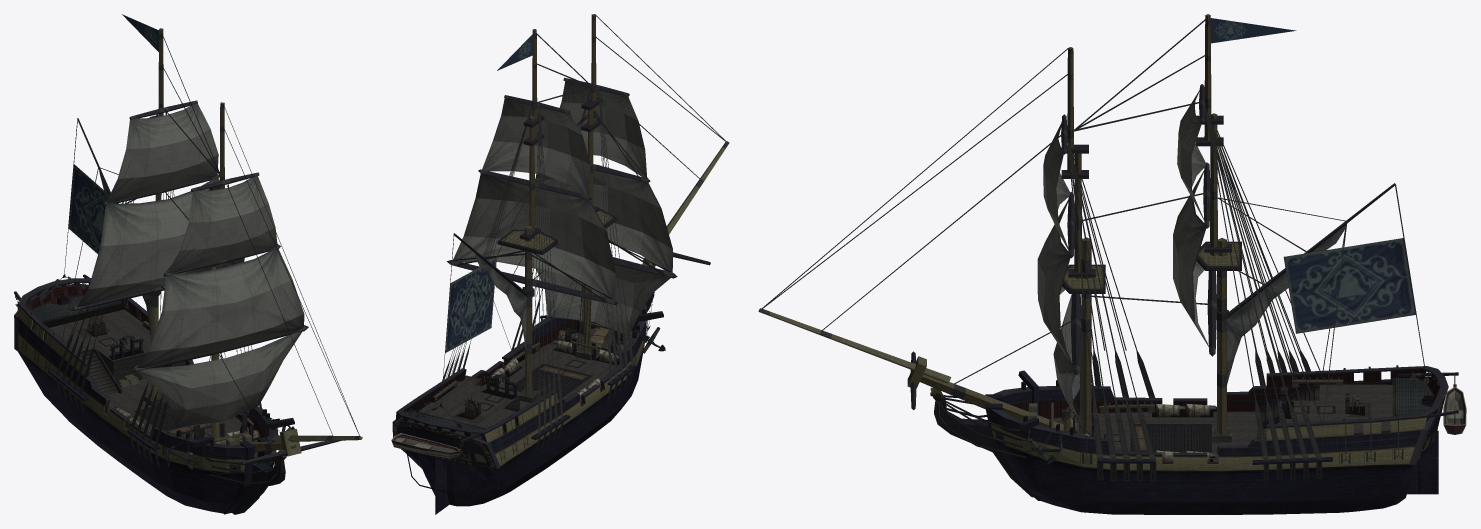
File: Sailing_Ship_002.glb
3 views of the same model, side by side, from view 1: azimuth 30°, elevation 25°; view 2: azimuth 150°, elevation 25°; view 3: azimuth 270°, elevation 25° (orthographic). The views are drawn at different scales.
Parts seen in each view (by area): view 1: IX0Q4TC46AEIDWSL9HW0S2EIH; view 2: IX0Q4TC46AEIDWSL9HW0S2EIH; view 3: IX0Q4TC46AEIDWSL9HW0S2EIH.
Part boxes in pixels (x1,y1,x2,y2): IX0Q4TC46AEIDWSL9HW0S2EIH: (14, 14, 362, 514); IX0Q4TC46AEIDWSL9HW0S2EIH: (391, 14, 729, 514); IX0Q4TC46AEIDWSL9HW0S2EIH: (758, 14, 1466, 514).
Size of the model in its own units: 0.8186 by 1.87 by 2.5.
Materials: 14 (14 with a texture image).
